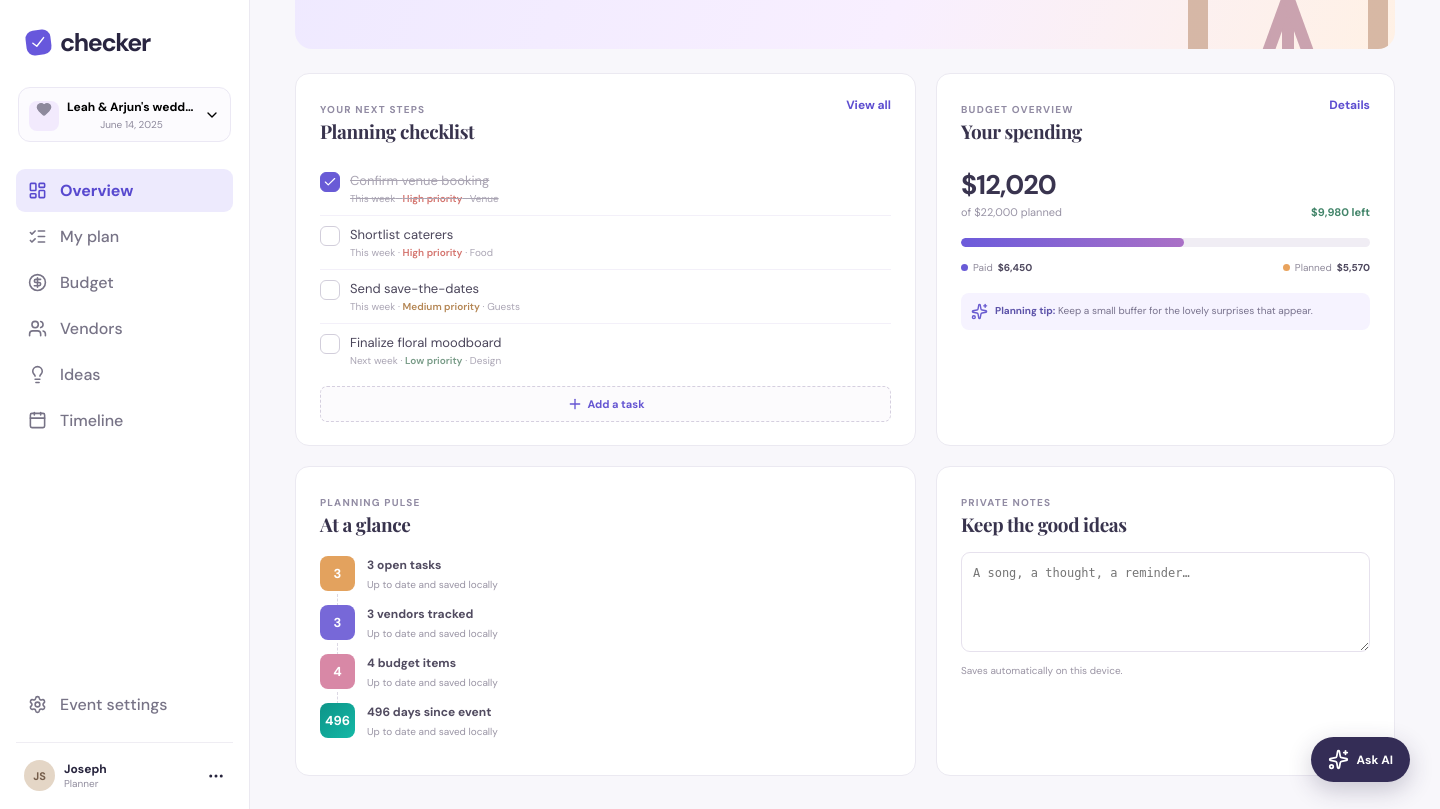
Test case: Checker event planner – App integration › closes the dialog on Escape key
(page scrolled)
Click the button named "add a new task" at [606, 404], box [320,386,891,422]
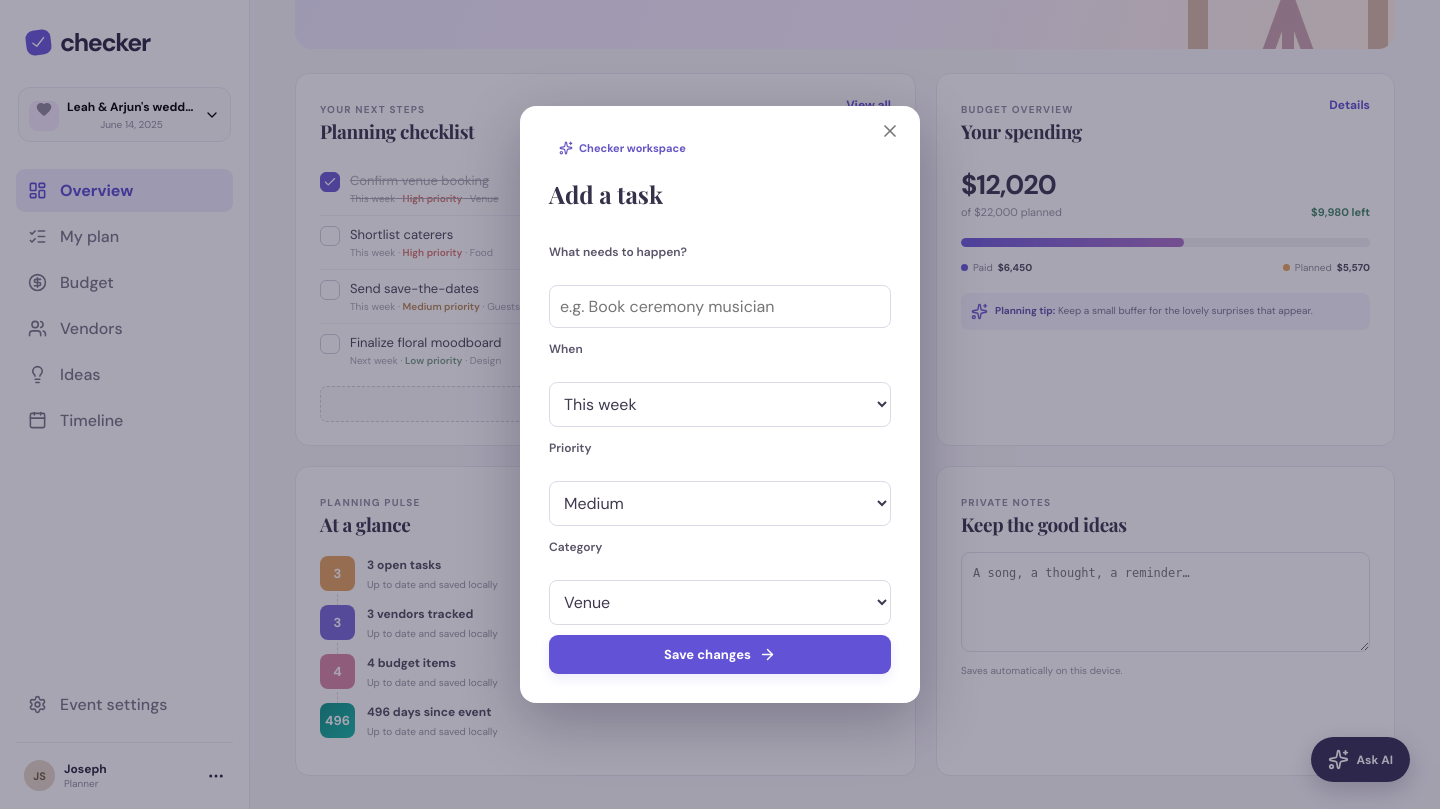
Now the dialog is shown, box [520,106,920,702]
Press Escape
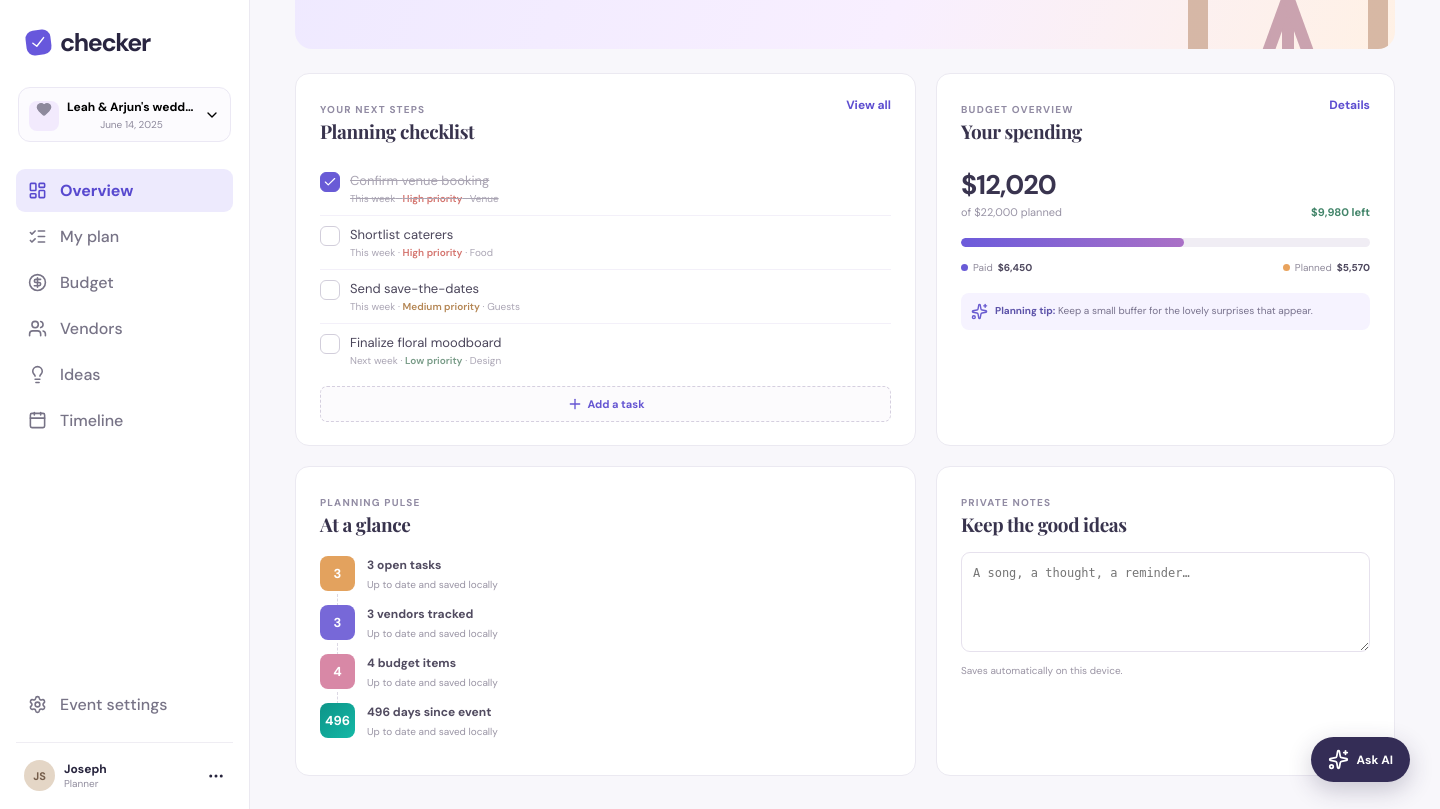
Now the dialog is gone
